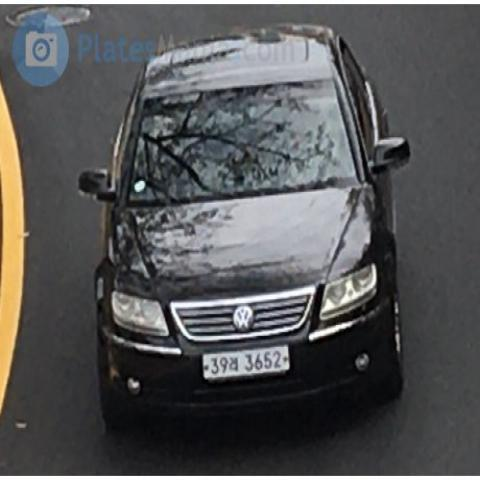LP: (195, 335, 293, 391)
